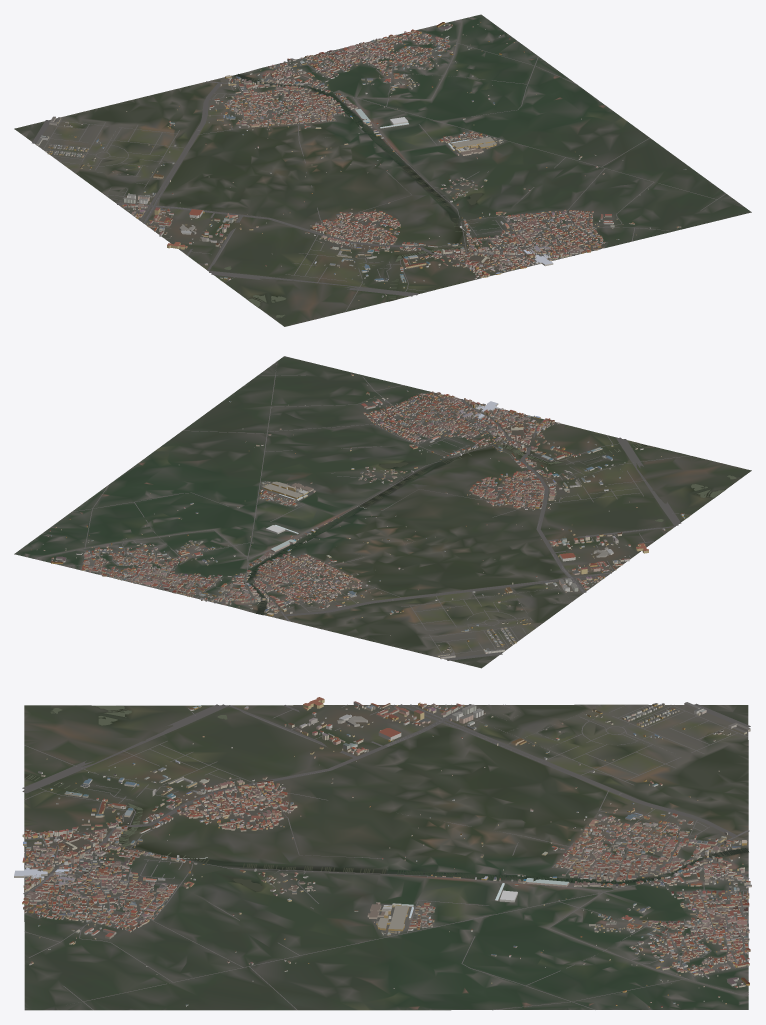
3 renders of one model, top to bottom at view 1: azimuth 30°, elevation 25°; view 2: azimuth 150°, elevation 25°; view 3: azimuth 270°, elevation 25°, orthographic. The views are drawn at different scales.
Parts seen in each view (by area): view 1: ground, buildings, roads, water; view 2: ground, buildings, roads, water; view 3: ground, buildings, roads, water.
Boxes of the visible parts, <box> form: ground: <box>14,14,751,326</box>; buildings: <box>36,22,686,300</box>; roads: <box>32,20,725,311</box>; water: <box>123,74,482,317</box>; ground: <box>14,356,751,668</box>; buildings: <box>31,373,684,659</box>; roads: <box>37,364,690,660</box>; water: <box>247,443,736,614</box>; ground: <box>24,704,748,1010</box>; buildings: <box>14,697,751,1007</box>; roads: <box>22,703,750,1010</box>; water: <box>25,705,748,891</box>.
Bounding box in the file's own units: 2843 × 34.88 × 2857.
